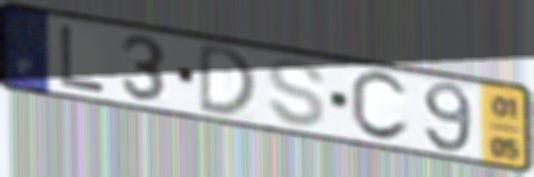3: (120, 34, 172, 105)
9: (419, 80, 476, 155)
C: (347, 69, 413, 145)
D: (196, 40, 259, 118)
L: (57, 22, 108, 96)
S: (265, 57, 328, 130)
